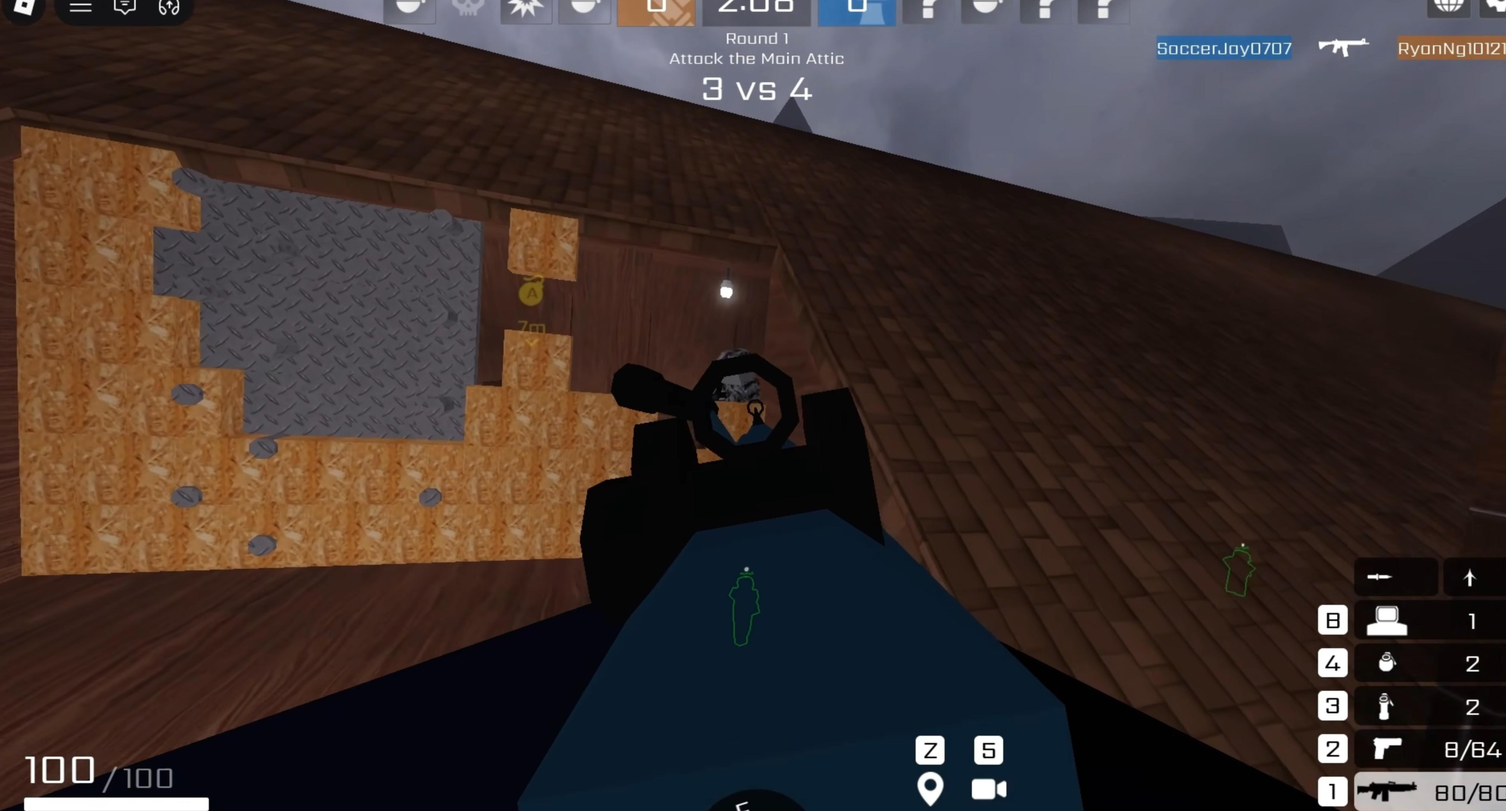enemy: (702, 340, 765, 431)
